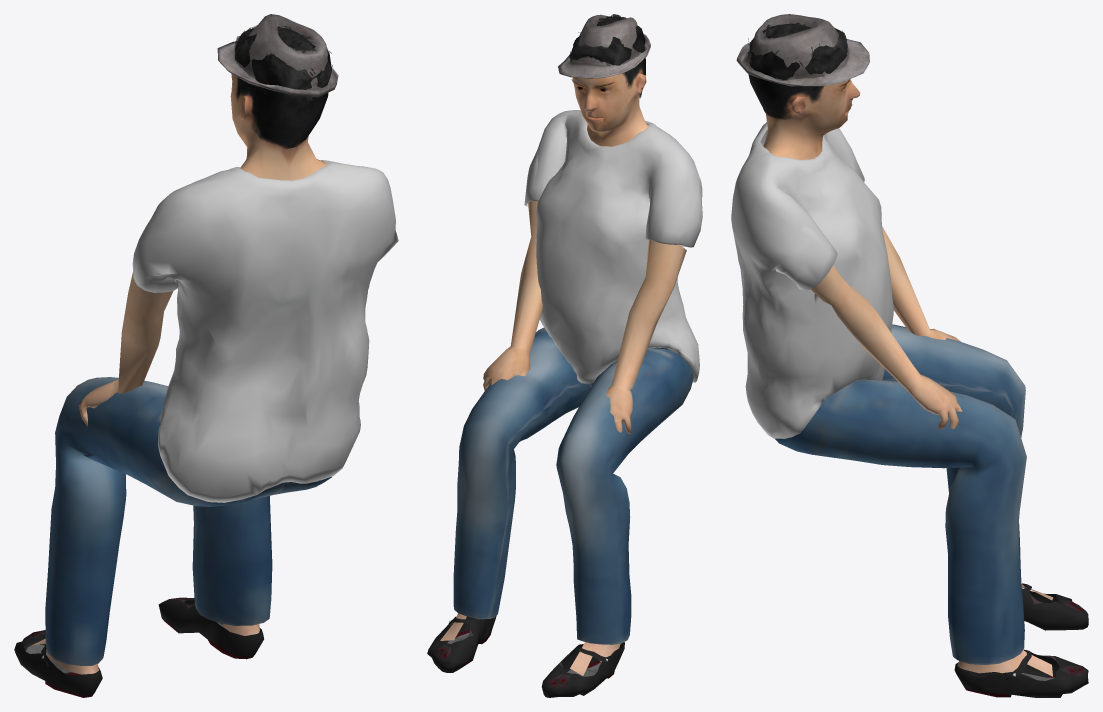
File: veteran_cap_sitting.glb
3 views of the same model, side by side, from view 1: azimuth 30°, elevation 25°; view 2: azimuth 150°, elevation 25°; view 3: azimuth 270°, elevation 25° (orthographic). The views are drawn at different scales.
Visible parts, largest first — view 1: Human_atlas; view 2: Human_atlas; view 3: Human_atlas.
Part boxes in pixels (bbox=[...]): Human_atlas: bbox=[14, 14, 398, 697]; Human_atlas: bbox=[427, 14, 702, 697]; Human_atlas: bbox=[731, 14, 1088, 697].
Size of the model in its own units: 0.4837 by 1.43 by 0.7175.
1 material, 1 textured.
